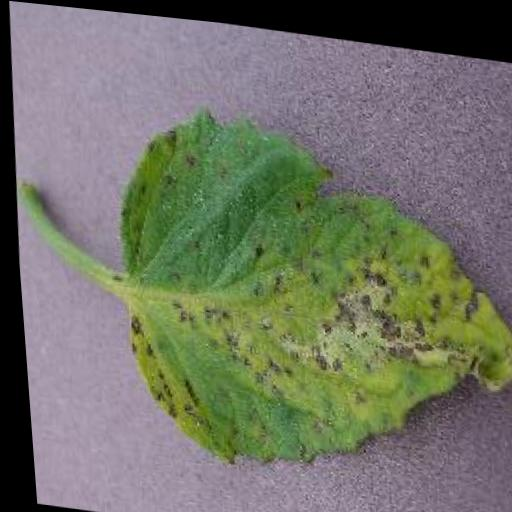Septoria: (98, 97, 512, 494)
